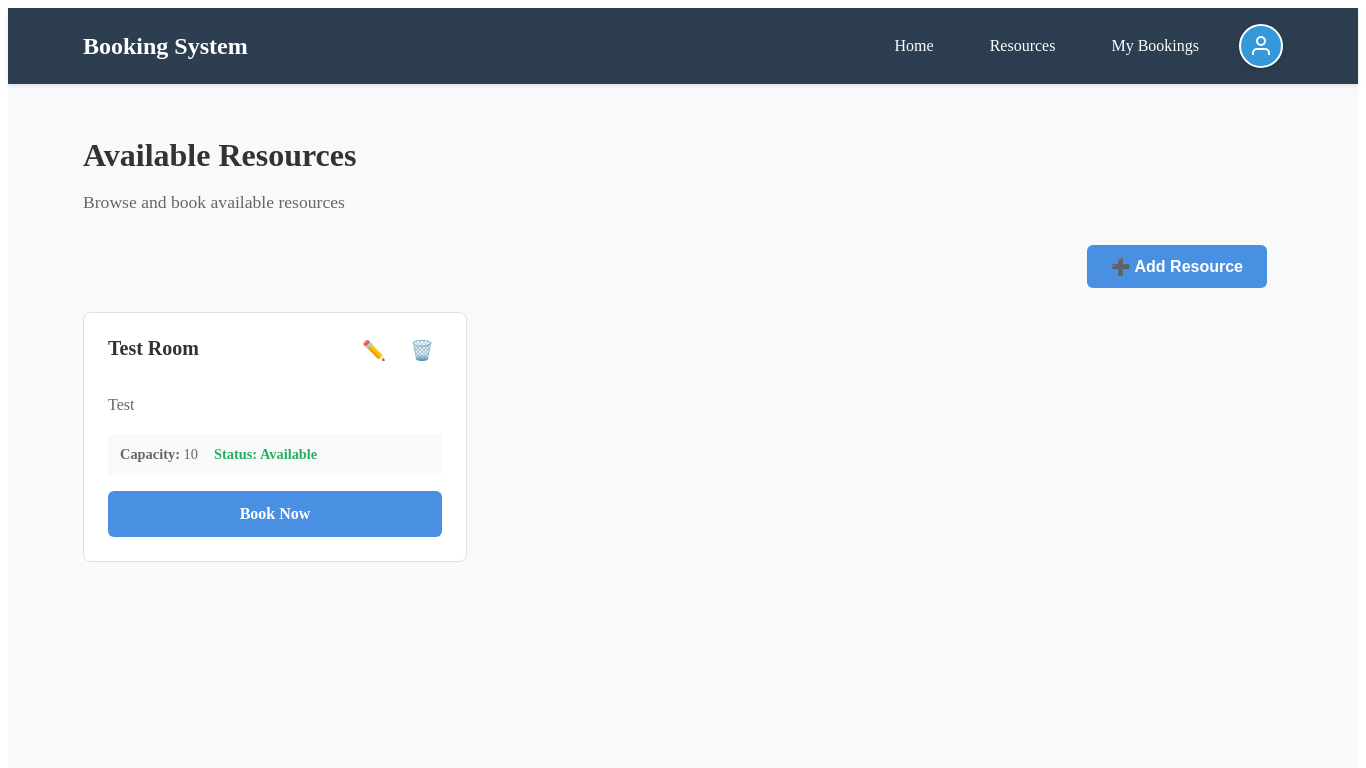
ResourceListPage › Admin - Add Resource Functionality › opens modal when "Add Resource" button is clicked
Click the button with aria-label "add new resource".
click(1177, 266)  # box [1087,245,1267,288]
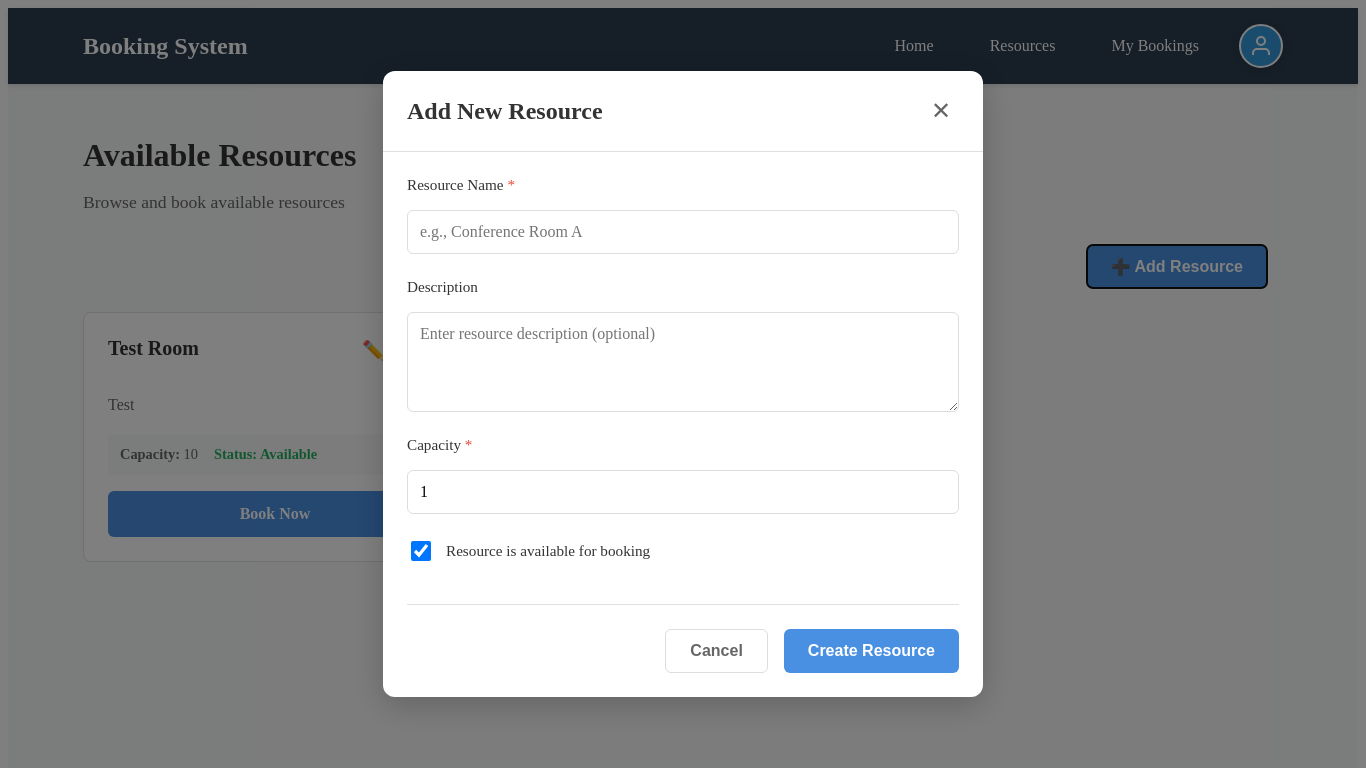
Now the heading "Add New Resource" is shown, box [407,98,602,124]
